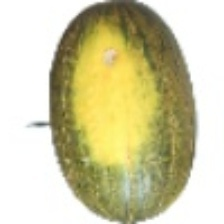honeydew: (41, 10, 184, 173)
